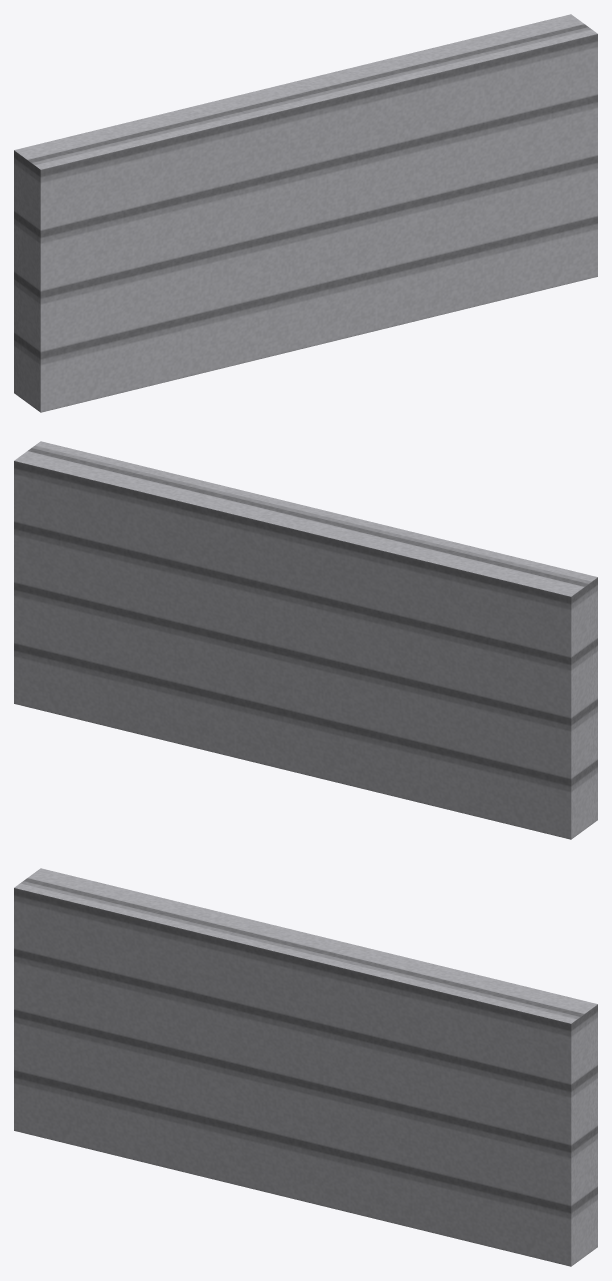
The model's file is neon_signage.glb.
3 renders of one model, top to bottom at view 1: azimuth 30°, elevation 25°; view 2: azimuth 150°, elevation 25°; view 3: azimuth 330°, elevation 25°, orthographic.
Visible parts, largest first — view 1: neon_signage-col; view 2: neon_signage-col; view 3: neon_signage-col.
Part boxes in pixels (box(x1,y1,x2,y2)): neon_signage-col: box(14, 14, 597, 412); neon_signage-col: box(14, 441, 597, 839); neon_signage-col: box(14, 868, 597, 1266).
Bounding box in the file's own units: 1.2 × 0.5 × 0.1.
Materials: 1 (1 with a texture image).
